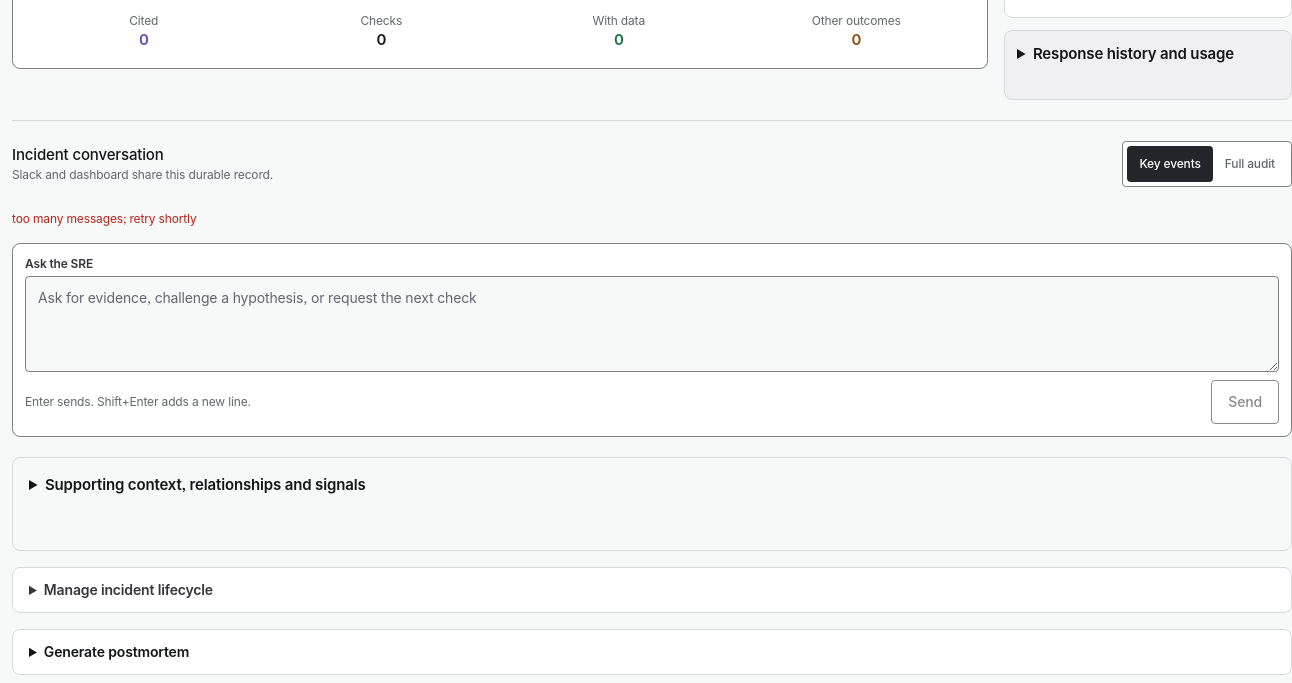
Test case: incident response workspace › retryable server refusals keep the conversation available
(page scrolled)
Replace the text in the text box labelled "Ask the SRE" with "Retry the check" at {"x": 652, "y": 324}, box top-left (25, 276), bottom-right (1279, 372)
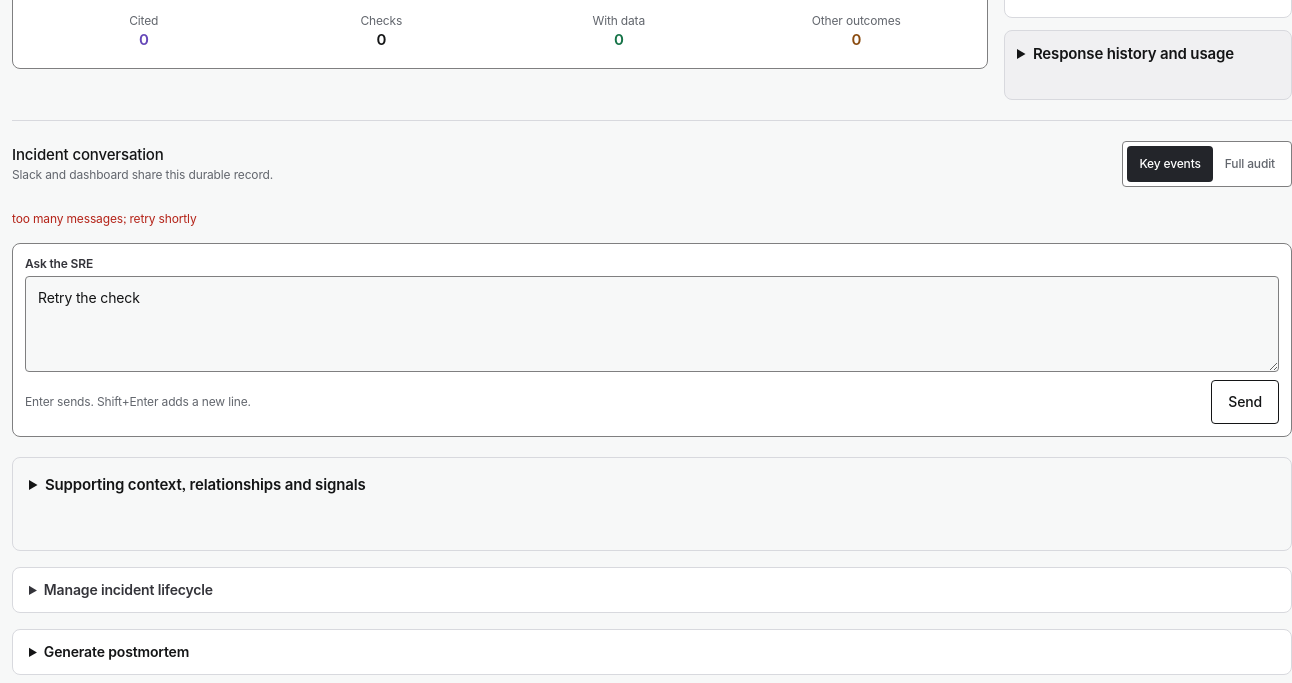
Expected: the button "Send" is enabled, top-left (1211, 380), bottom-right (1279, 424)
